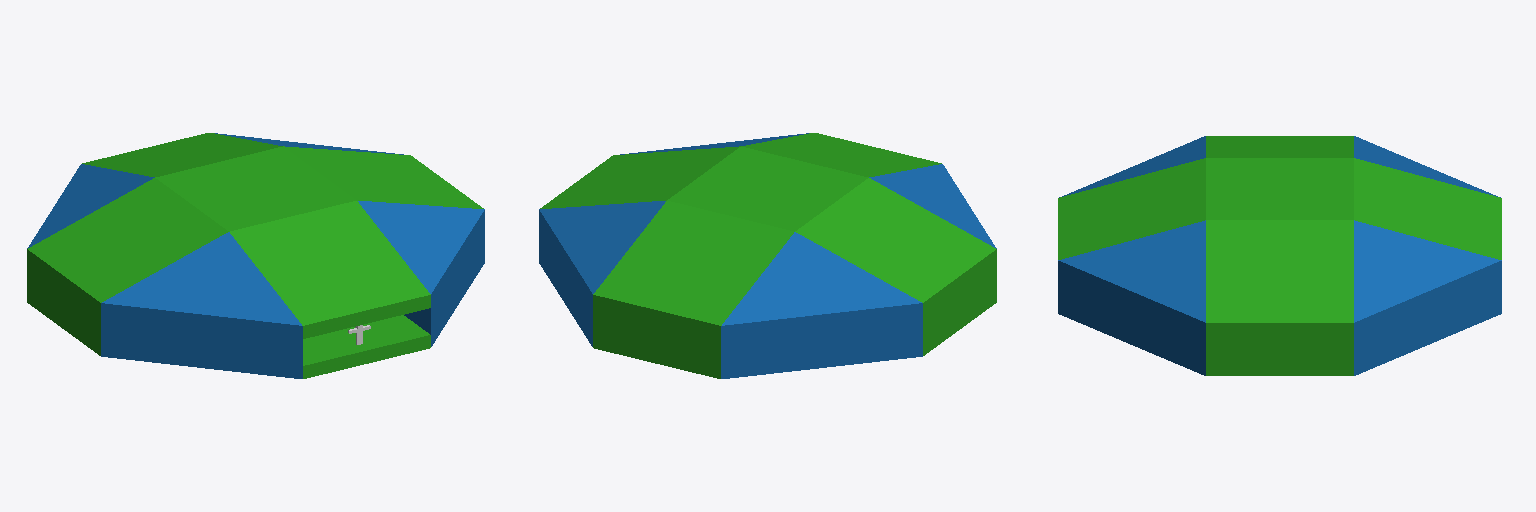
Rendered from naveD.obj.
3 renders of one model, left to right at view 1: azimuth 30°, elevation 25°; view 2: azimuth 150°, elevation 25°; view 3: azimuth 270°, elevation 25°, orthographic.
Visible parts, largest first — view 1: mesh08, mesh04, mesh10, cube01, mesh05, mesh03, mesh02, mesh01, mesh06, mesh07; view 2: mesh01, mesh06, mesh04, cube01, mesh07, mesh03, mesh10, mesh08, mesh05; view 3: mesh03, mesh07, mesh05, mesh01, mesh10, cube01, mesh04, mesh08, mesh06.
Part boxes in pixels (left/top/right/bottom): mesh08: left=101, top=232, right=302, bottom=378; mesh04: left=27, top=178, right=228, bottom=355; mesh10: left=230, top=201, right=430, bottom=338; cube01: left=155, top=147, right=356, bottom=231; mesh05: left=358, top=201, right=484, bottom=346; mesh03: left=283, top=146, right=483, bottom=208; mesh02: left=303, top=315, right=430, bottom=378; mesh01: left=82, top=133, right=282, bottom=176; mesh06: left=27, top=164, right=154, bottom=248; mesh07: left=215, top=133, right=403, bottom=154; mesh01: left=593, top=201, right=793, bottom=378; mesh06: left=721, top=232, right=922, bottom=378; mesh04: left=795, top=178, right=996, bottom=355; cube01: left=667, top=147, right=868, bottom=231; mesh07: left=539, top=201, right=665, bottom=346; mesh03: left=540, top=146, right=740, bottom=208; mesh10: left=741, top=133, right=941, bottom=176; mesh08: left=869, top=164, right=996, bottom=248; mesh05: left=620, top=133, right=808, bottom=154; mesh03: left=1206, top=220, right=1353, bottom=375; mesh07: left=1354, top=220, right=1501, bottom=375; mesh05: left=1058, top=220, right=1205, bottom=375; mesh01: left=1354, top=158, right=1501, bottom=259; mesh10: left=1058, top=158, right=1205, bottom=259; cube01: left=1206, top=158, right=1353, bottom=219; mesh04: left=1206, top=136, right=1353, bottom=157; mesh08: left=1059, top=136, right=1205, bottom=197; mesh06: left=1354, top=136, right=1500, bottom=197.
Bounding box in the file's own units: 150 × 50 × 150.